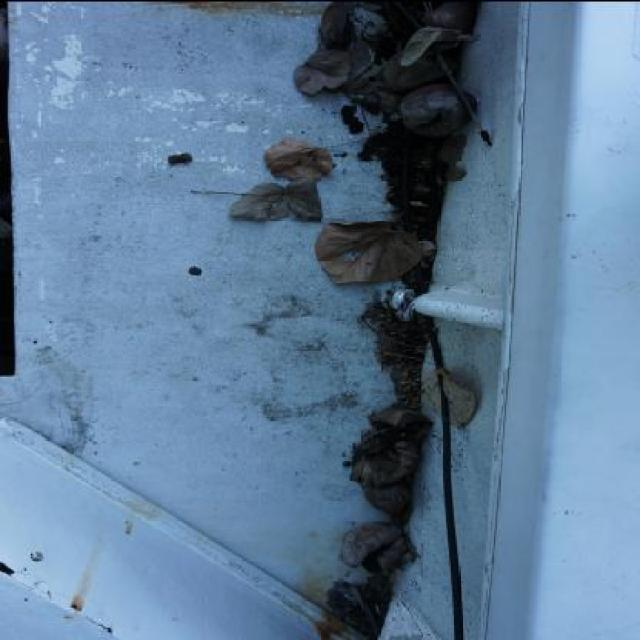metal: (389, 287, 417, 321)
